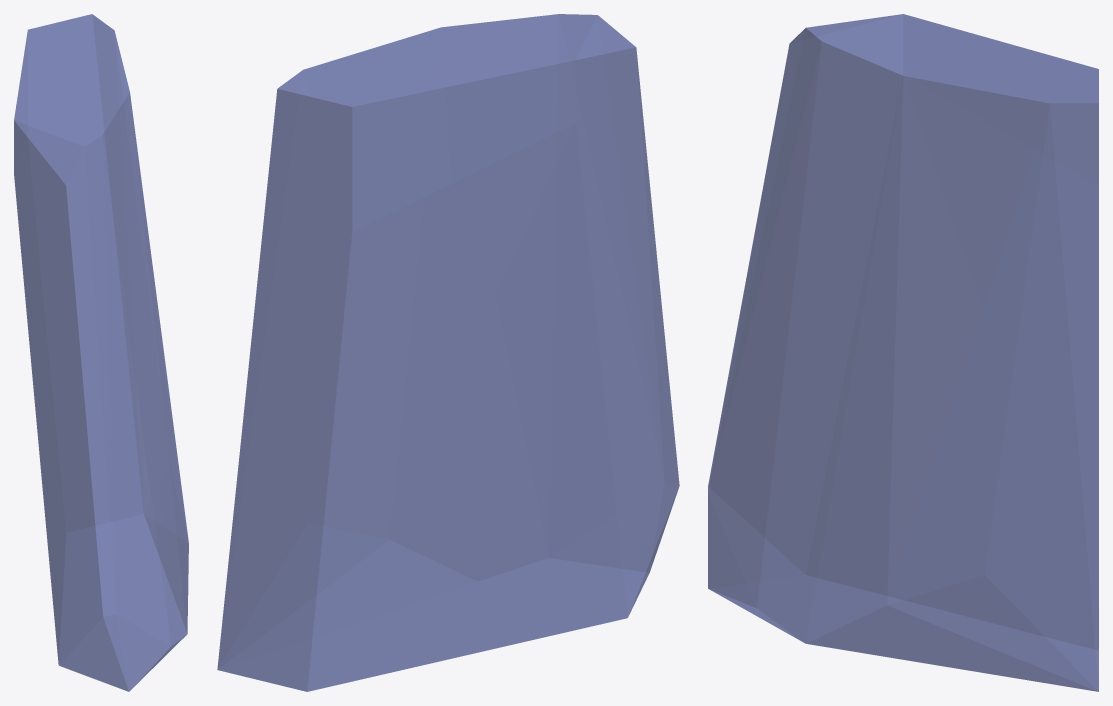
The picture shows the model from 3 angles, left to right: view 1: azimuth 30°, elevation 25°; view 2: azimuth 150°, elevation 25°; view 3: azimuth 270°, elevation 25°; orthographic projection. The views are drawn at different scales.
Visible parts, largest first — view 1: Shape_IndexedFaceSet.025_Shape_IndexedFaceSet.15638; view 2: Shape_IndexedFaceSet.025_Shape_IndexedFaceSet.15638; view 3: Shape_IndexedFaceSet.025_Shape_IndexedFaceSet.15638.
Boxes of the visible parts, <box> form: Shape_IndexedFaceSet.025_Shape_IndexedFaceSet.15638: <box>14,14,188,691</box>; Shape_IndexedFaceSet.025_Shape_IndexedFaceSet.15638: <box>217,14,679,691</box>; Shape_IndexedFaceSet.025_Shape_IndexedFaceSet.15638: <box>708,14,1098,691</box>.
Size of the model in its own units: 0.1537 by 0.3437 by 0.2171.
